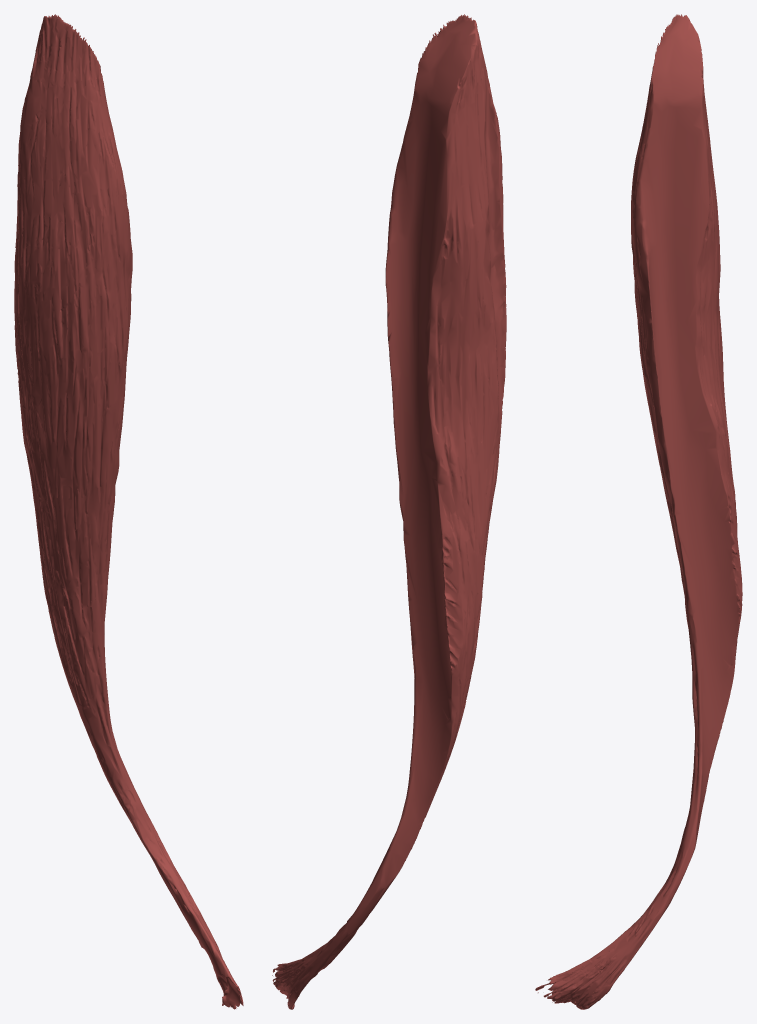
Rendered from FMA22544.glb.
The picture shows the model from 3 angles, left to right: view 1: azimuth 30°, elevation 25°; view 2: azimuth 210°, elevation 25°; view 3: azimuth 270°, elevation 25°; orthographic projection. The views are drawn at different scales.
Parts seen in each view (by area): view 1: FMA22544; view 2: FMA22544; view 3: FMA22544.
Part boxes in pixels (x1=…): FMA22544: x1=14, y1=14, x2=243, y2=1009; FMA22544: x1=272, y1=14, x2=506, y2=1009; FMA22544: x1=535, y1=14, x2=742, y2=1009.
Bounding box in the file's own units: 0.0589 × 0.357 × 0.0713.
